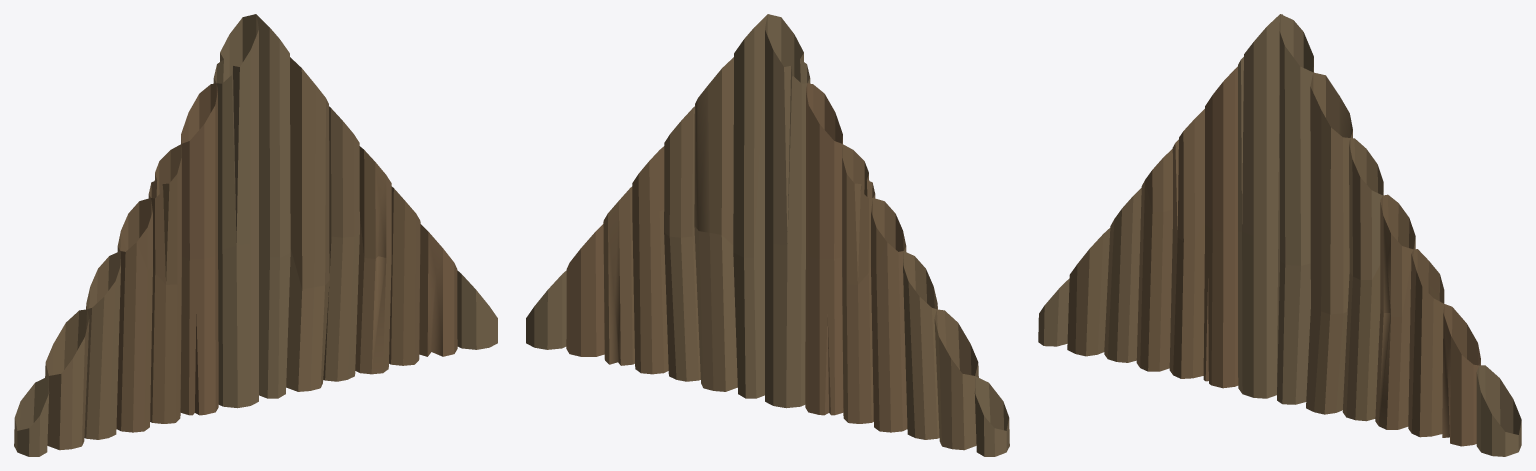
The model's file is rpgpp_ag_roof_end_01_6x5_wall_b.fbx.
3 views of the same model, side by side, from view 1: azimuth 30°, elevation 25°; view 2: azimuth 150°, elevation 25°; view 3: azimuth 330°, elevation 25° (orthographic).
Visible parts, largest first — view 1: rpgpp_ag_roof_end_01_6x5_wall_b; view 2: rpgpp_ag_roof_end_01_6x5_wall_b; view 3: rpgpp_ag_roof_end_01_6x5_wall_b.
Part boxes in pixels (left/top/right/bottom): rpgpp_ag_roof_end_01_6x5_wall_b: left=14, top=14, right=497, bottom=456; rpgpp_ag_roof_end_01_6x5_wall_b: left=526, top=14, right=1009, bottom=456; rpgpp_ag_roof_end_01_6x5_wall_b: left=1038, top=14, right=1521, bottom=456.
Bounding box in the file's own units: 6 × 4.57 × 0.4626.
